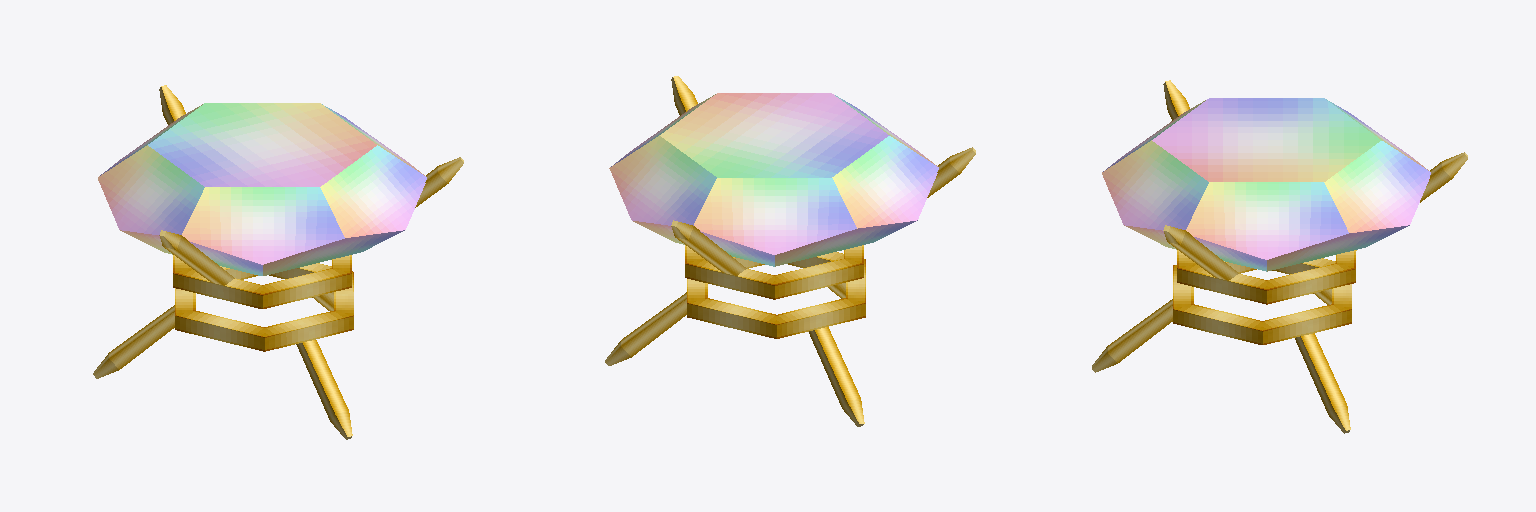
3 renders of one model, left to right at view 1: azimuth 30°, elevation 25°; view 2: azimuth 150°, elevation 25°; view 3: azimuth 270°, elevation 25°, orthographic.
Parts seen in each view (by area): view 1: MainCrystal, FloatingRing, FixtureRing; view 2: MainCrystal, FloatingRing, FixtureRing; view 3: MainCrystal, FloatingRing, FixtureRing.
Boxes of the visible parts, x1=… form: MainCrystal: x1=98, y1=103, x2=426, y2=275; FloatingRing: x1=93, y1=263, x2=353, y2=439; FixtureRing: x1=159, y1=85, x2=463, y2=308; MainCrystal: x1=609, y1=93, x2=938, y2=266; FloatingRing: x1=605, y1=252, x2=865, y2=426; FixtureRing: x1=671, y1=76, x2=975, y2=299; MainCrystal: x1=1102, y1=98, x2=1430, y2=271; FloatingRing: x1=1092, y1=258, x2=1351, y2=433; FixtureRing: x1=1163, y1=80, x2=1467, y2=304.
Bounding box in the file's own units: 0.8698 × 0.6305 × 0.9308.
Materials: 1 (1 with a texture image).